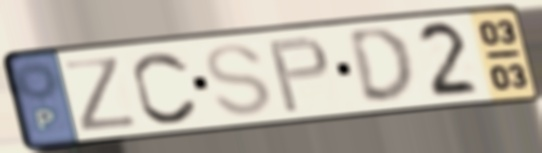2: (415, 18, 485, 101)
C: (130, 48, 202, 127)
D: (344, 24, 419, 107)
P: (264, 33, 333, 116)
S: (201, 41, 276, 120)
Z: (60, 54, 143, 135)
